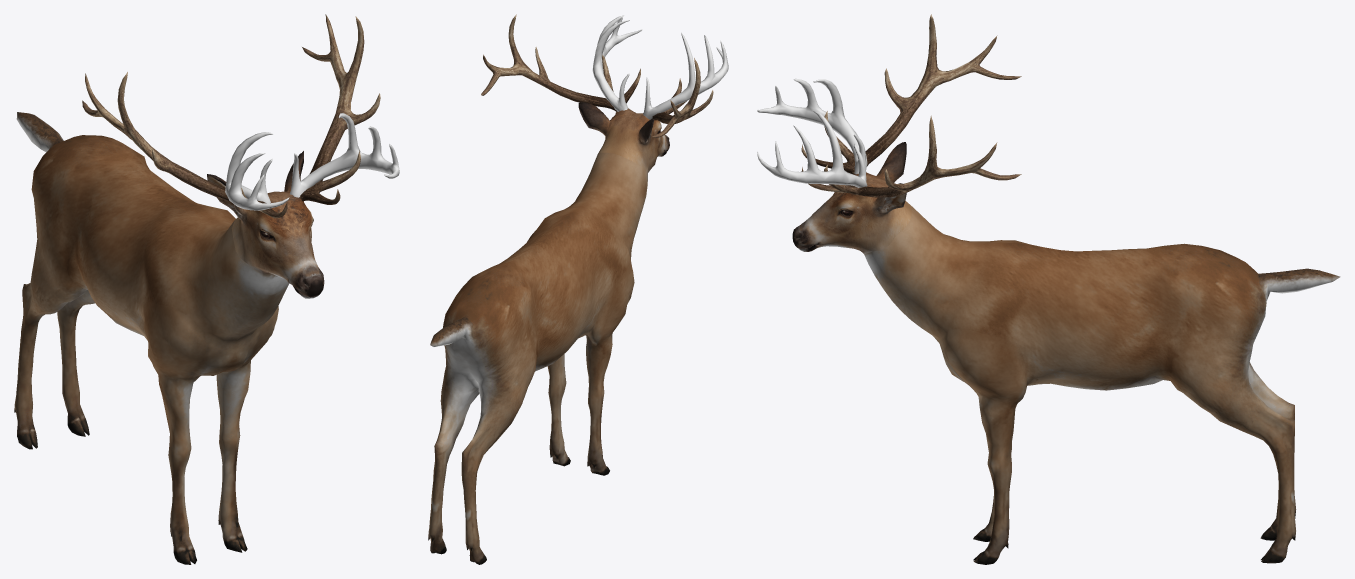
File: Deer.fbx
3 renders of one model, left to right at view 1: azimuth 30°, elevation 25°; view 2: azimuth 150°, elevation 25°; view 3: azimuth 270°, elevation 25°, orthographic. The views are drawn at different scales.
Parts seen in each view (by area): view 1: sm_4_0_0, sm_1_0_0, Chifre, sm_2_0_0; view 2: sm_4_0_0, Chifre, sm_1_0_0, sm_2_0_0; view 3: sm_4_0_0, sm_1_0_0, Chifre, sm_2_0_0.
Boxes of the visible parts, <box> form: sm_4_0_0: <box>14,112,289,564</box>; sm_1_0_0: <box>207,151,324,298</box>; Chifre: <box>82,14,380,218</box>; sm_2_0_0: <box>225,113,399,210</box>; sm_4_0_0: <box>428,152,647,564</box>; Chifre: <box>481,14,713,137</box>; sm_1_0_0: <box>578,102,669,173</box>; sm_2_0_0: <box>592,15,728,119</box>; sm_4_0_0: <box>864,206,1340,564</box>; sm_1_0_0: <box>792,142,911,253</box>; Chifre: <box>801,14,1021,197</box>; sm_2_0_0: <box>757,79,867,187</box>.
Size of the model in its own units: 81.67 by 169 by 184.
Materials: 5 (4 with a texture image).
